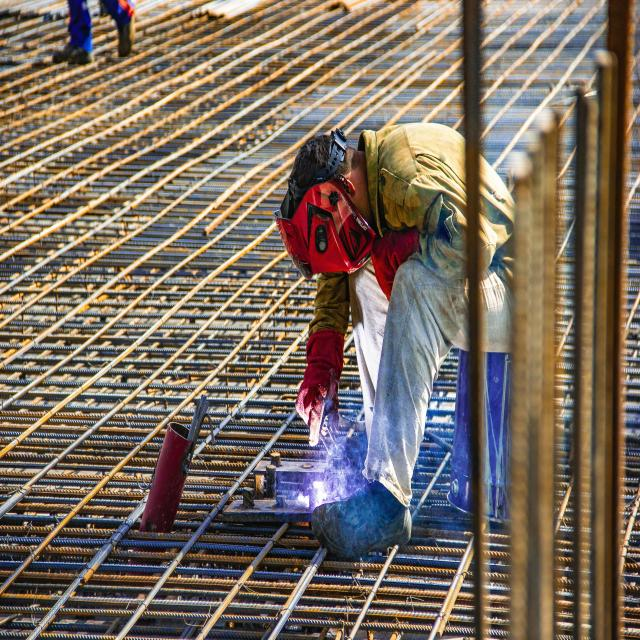with_helmet: (274, 136, 399, 291)
